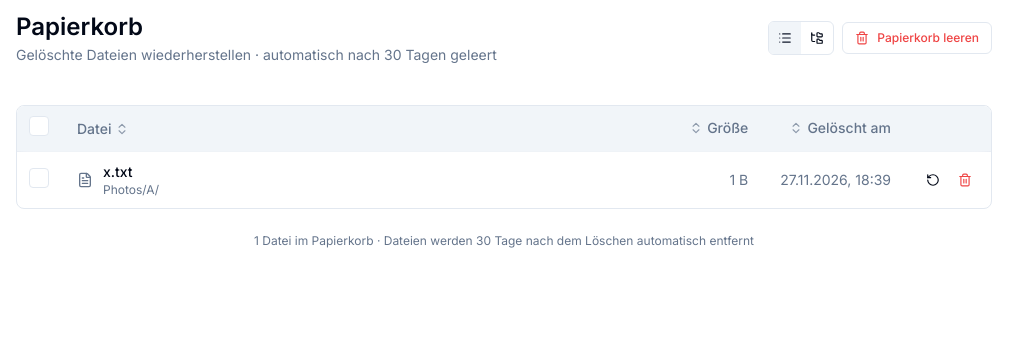
Test: TrashPage — Tree-View › Ordner-Toggle kollabiert und versteckt Kinder
The width and height of the screenshot is (1009, 346).
Click the button named "Ordneransicht" at (817, 38), box [801,22,833,54]
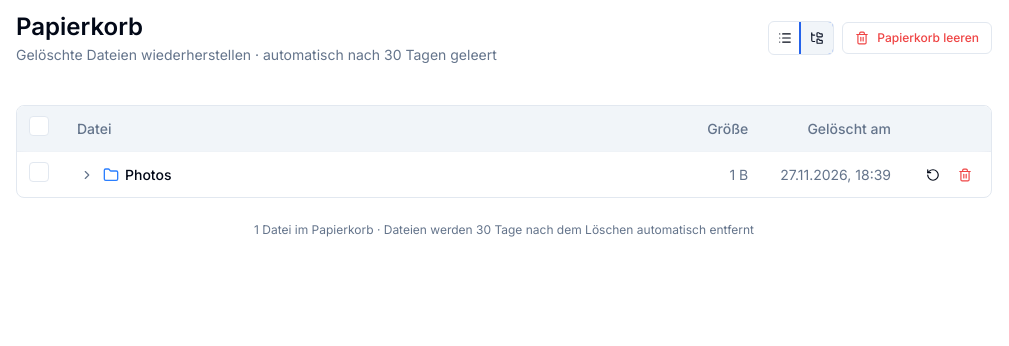
Click the button named "Aufklappen" at (87, 174), box [77,164,97,184]
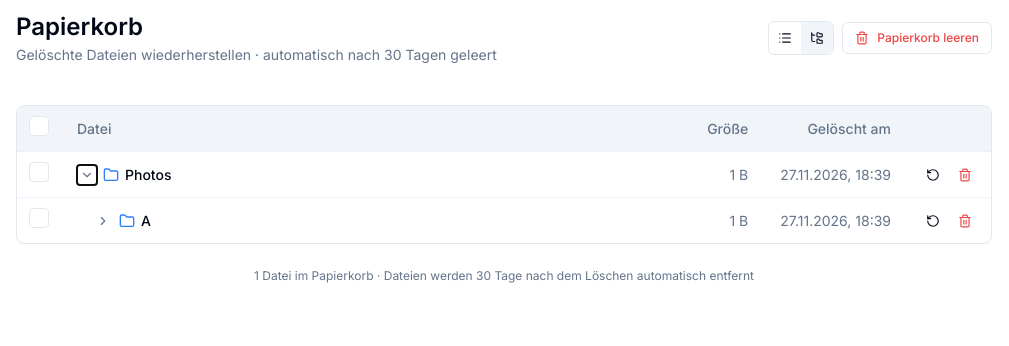
Click the button named "Aufklappen" at (103, 220), box [93,210,113,230]
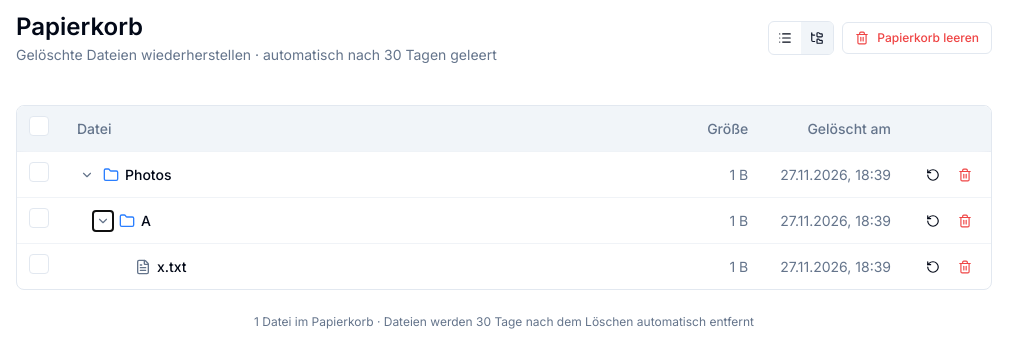
Result: the list item "x.txt 1 B 27.11.2026, 18:39" is shown at [17,244,991,289]
Click the 2nd button named "Zuklappen" at (103, 220), box [93,210,113,230]
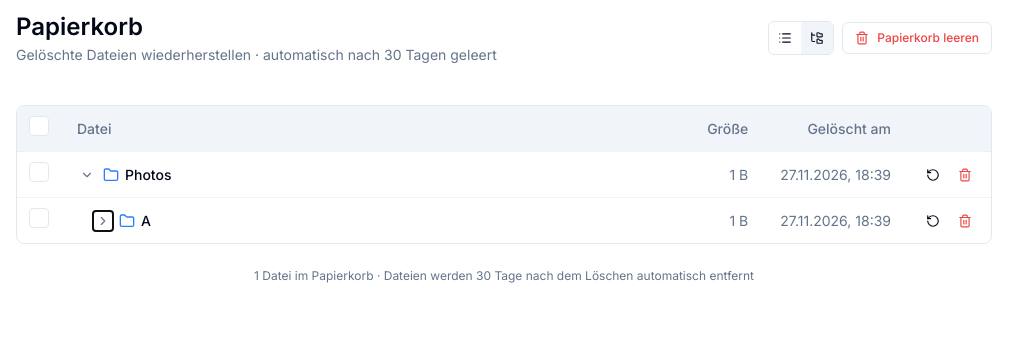
Result: the text "x.txt" is gone
